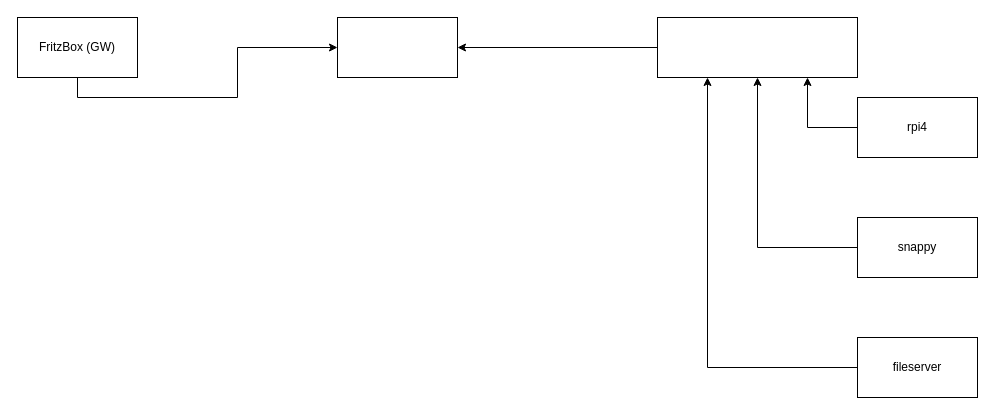
The diagram is 995 pixels wide and 415 high, and some of its shapes have lost their labels. The shapes that lost their labels are listed below. From the top down, each one's box as (x1, y1, x2, y2) in pixels, then its label:
(336, 16, 458, 78): RootSwitch
(656, 16, 858, 78): ums1
